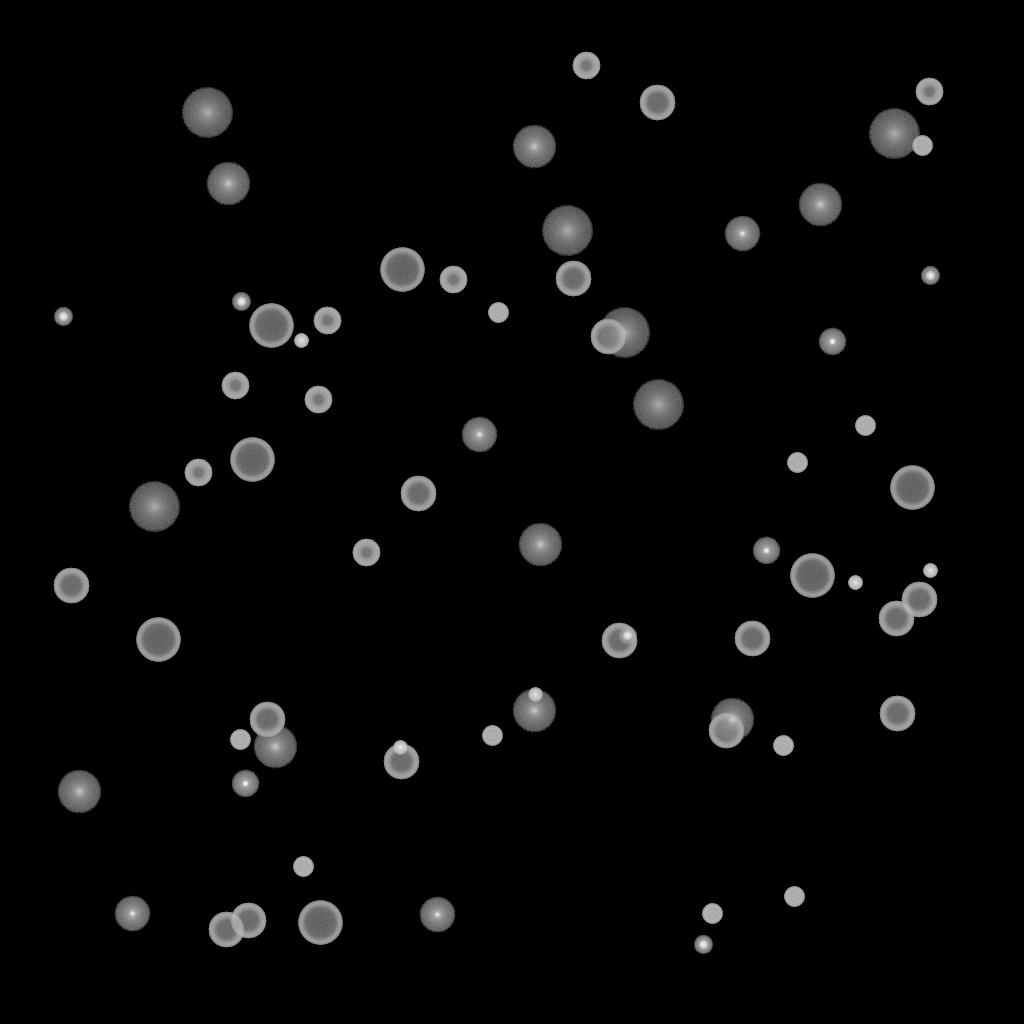depth:-10: (818, 328, 846, 356), (752, 537, 780, 565), (231, 770, 259, 798)
depth:-20: (694, 936, 712, 954), (54, 308, 72, 326), (921, 267, 939, 285), (618, 627, 636, 645), (232, 293, 250, 311)
depth:-30: (528, 688, 542, 702), (393, 741, 407, 755), (294, 334, 308, 348), (848, 576, 862, 590), (923, 564, 937, 578)
depth:-40: (702, 904, 722, 924), (482, 726, 502, 746), (773, 736, 793, 756), (855, 416, 875, 436), (912, 136, 932, 156), (230, 730, 250, 750), (293, 857, 313, 877), (488, 303, 508, 323), (787, 453, 807, 473), (784, 887, 804, 907)
depth:-50: (184, 459, 212, 487), (313, 307, 341, 335), (915, 78, 943, 106), (304, 386, 332, 414), (221, 372, 249, 400), (352, 539, 380, 567), (572, 52, 600, 80), (439, 266, 467, 294)
depth:-60: (249, 702, 285, 738), (734, 621, 770, 657), (601, 623, 637, 659), (400, 476, 436, 512), (230, 903, 266, 939), (383, 744, 419, 780), (901, 582, 937, 618), (879, 696, 915, 732), (590, 319, 626, 355), (878, 601, 914, 637), (639, 85, 675, 121), (53, 568, 89, 604), (555, 261, 591, 297), (708, 713, 744, 749), (208, 912, 244, 948)
depth:-70: (890, 466, 934, 510), (136, 618, 180, 662), (790, 554, 834, 598), (298, 901, 342, 945), (380, 248, 424, 292), (249, 304, 293, 348), (230, 438, 274, 482)
depth:0: (114, 896, 150, 932), (461, 417, 497, 453), (724, 216, 760, 252), (419, 897, 455, 933)
depth:10: (512, 689, 556, 733), (253, 725, 297, 769), (57, 770, 101, 814), (710, 698, 754, 742), (512, 125, 556, 169), (798, 183, 842, 227), (206, 162, 250, 206), (518, 523, 562, 567)
depth:20: (868, 109, 920, 159), (541, 206, 593, 256), (632, 380, 684, 430), (128, 482, 180, 532), (181, 88, 233, 138), (598, 308, 650, 358)
